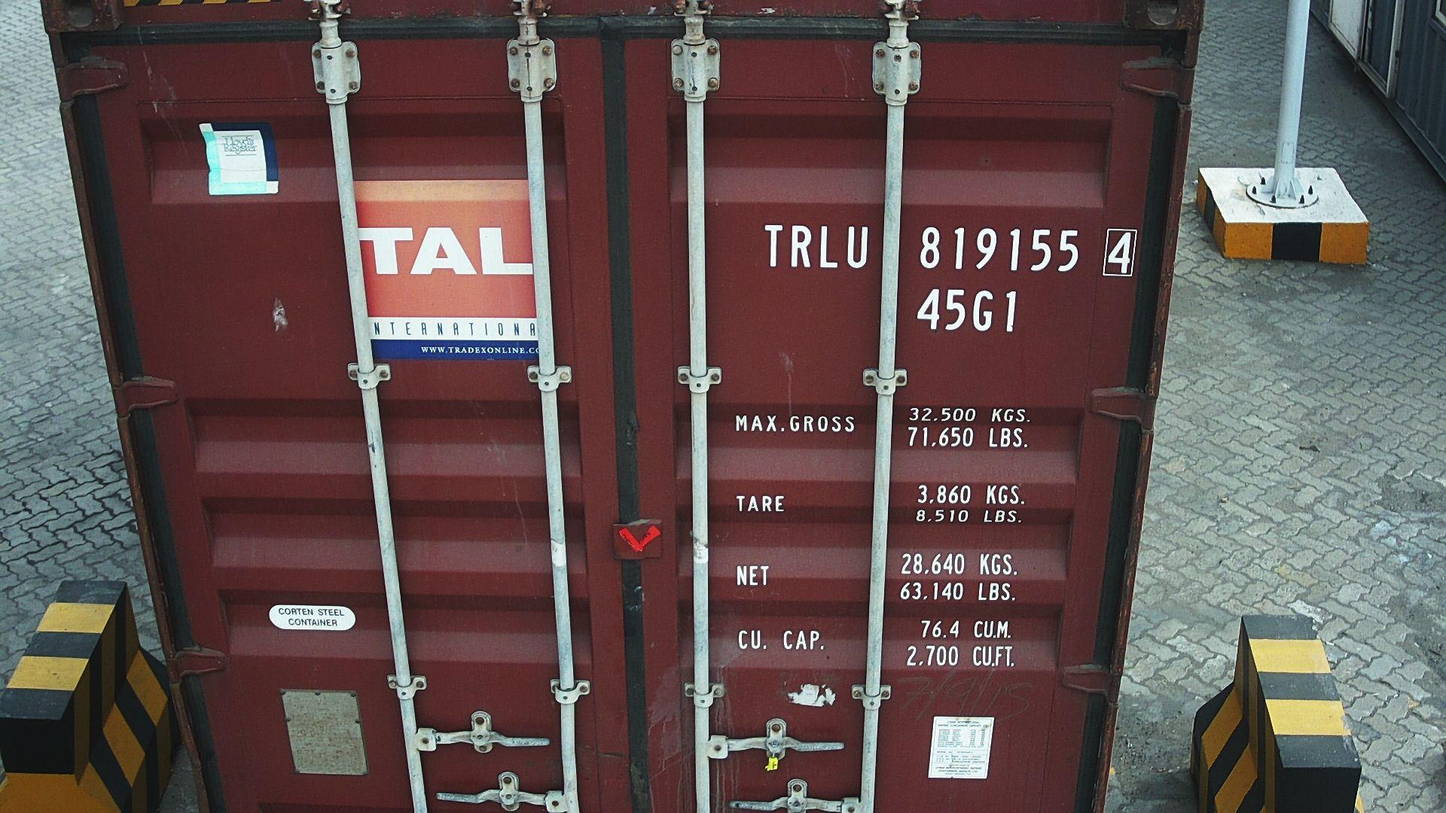container-numbers: (758, 220, 1142, 278), (913, 284, 1023, 336)
